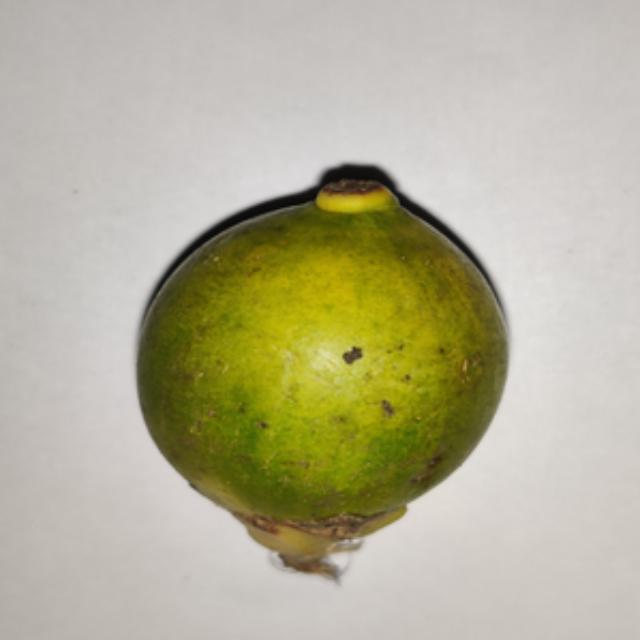good: (135, 165, 509, 578)
